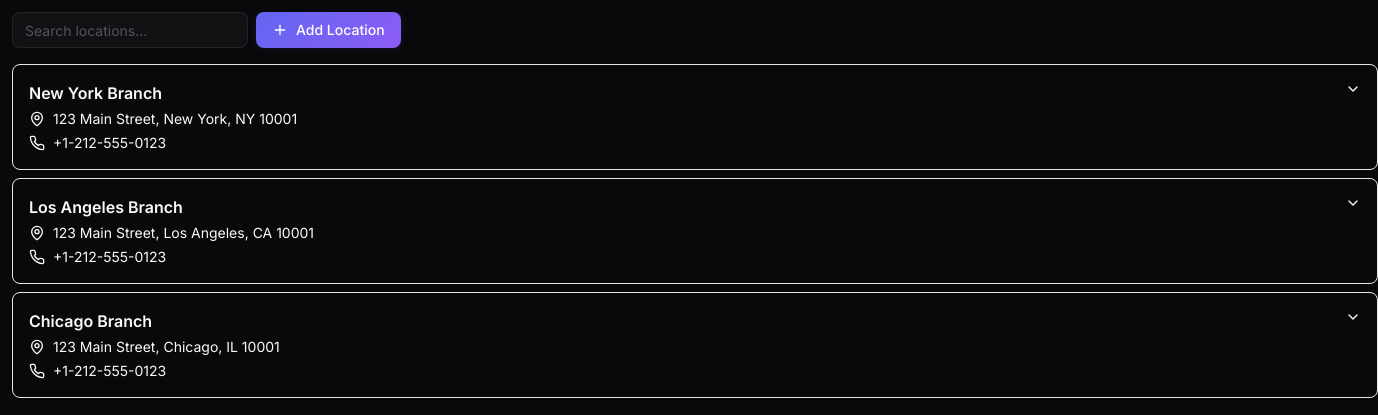
it: LocationList Component › filters locations by search
Type "Los Angeles" into the field with placeholder "Search locations...". click: point(130, 30)
box: x1=12 y1=12 x2=248 y2=48
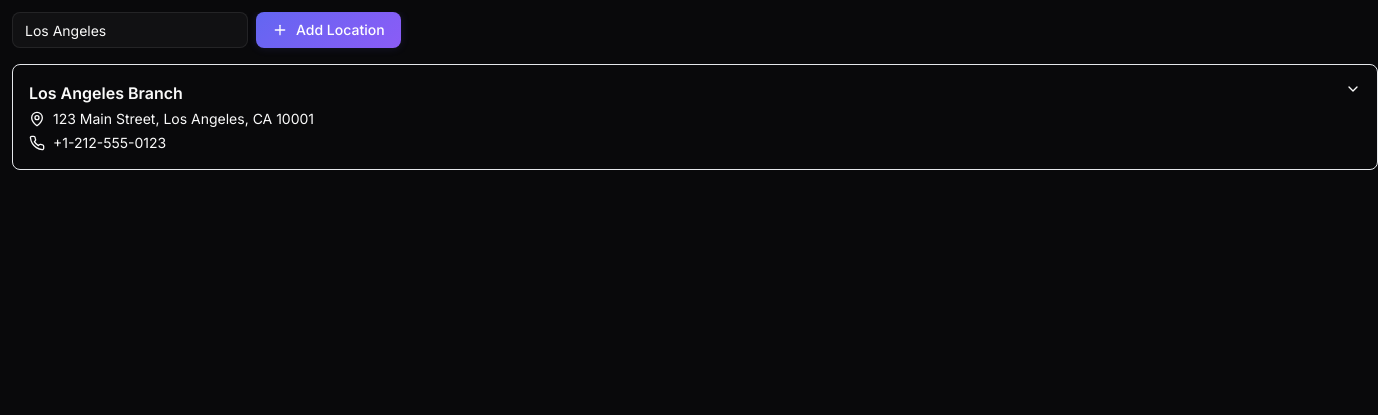
Check: the heading "Los Angeles Branch" is shown, box x1=29 y1=83 x2=183 y2=103
Check: the heading "New York Branch" is gone
